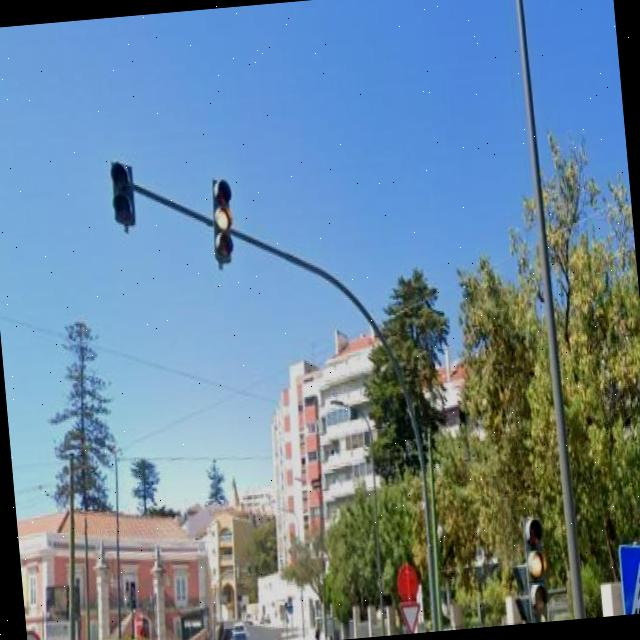yellow_light: (521, 514, 549, 616), (209, 177, 237, 266)
